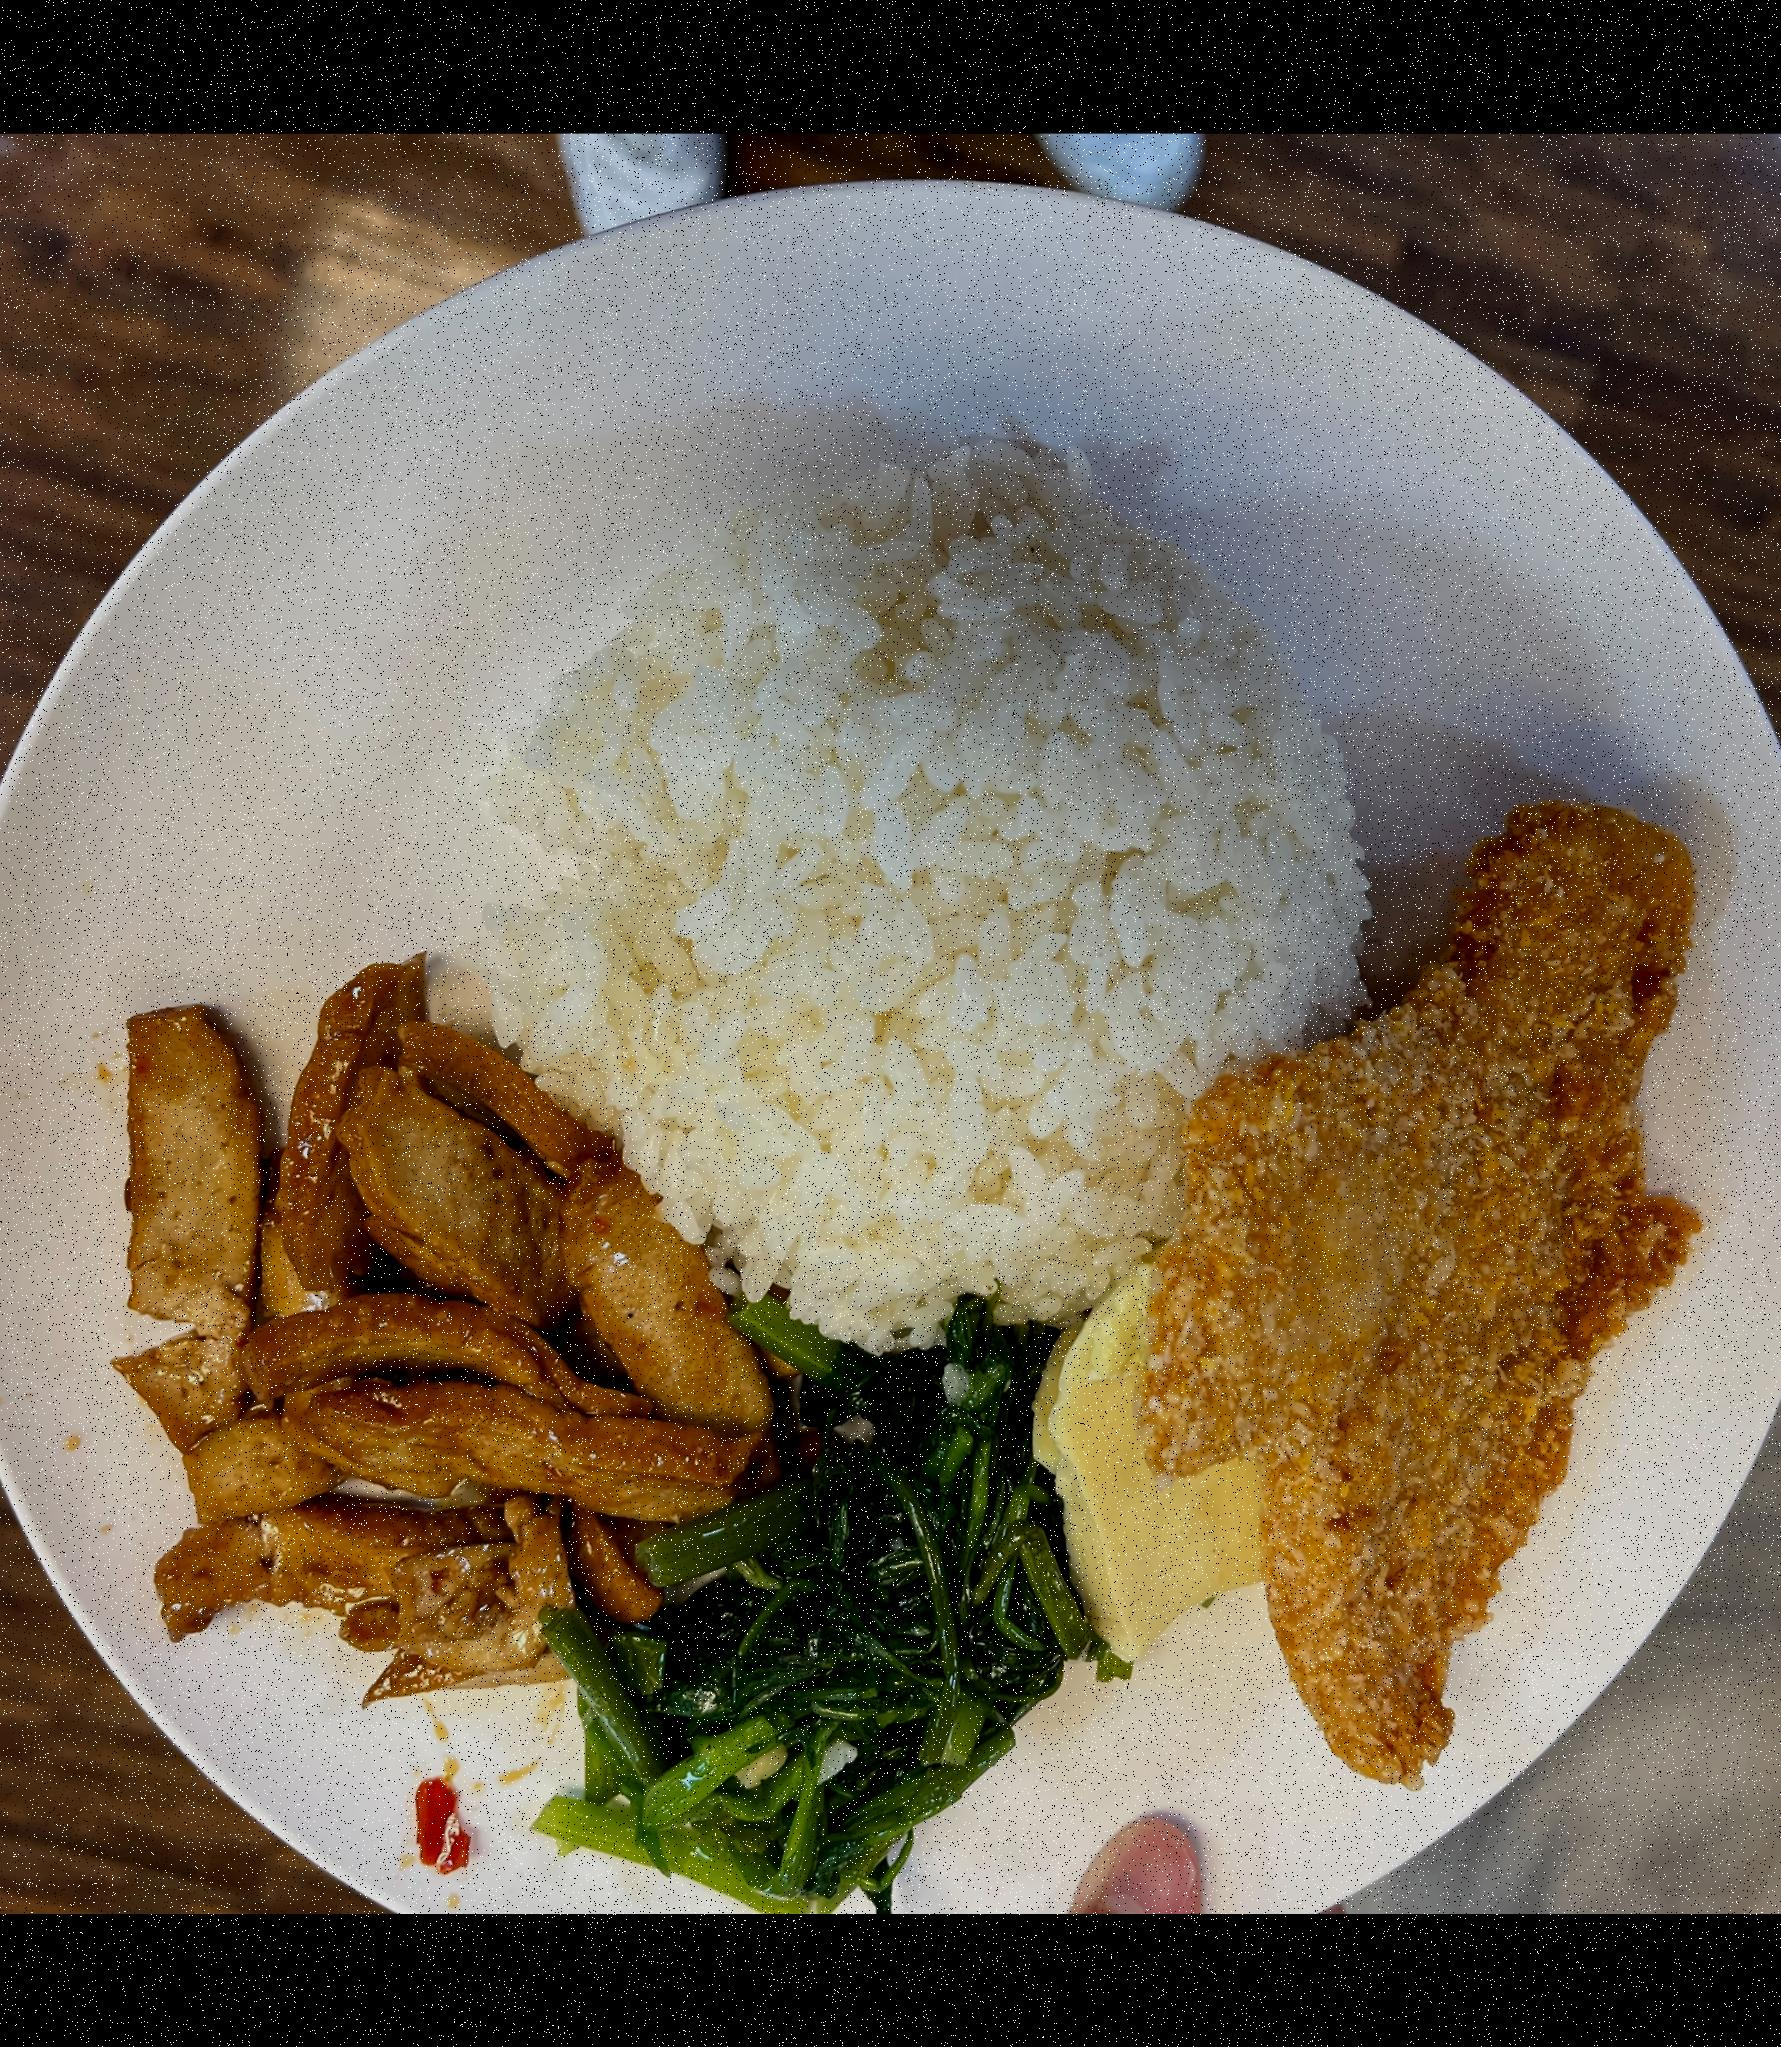big fried chicken leg: (0, 176, 1781, 1914)
big herbal chicken leg: (427, 459, 1382, 1347)
braised fish fillet: (81, 995, 747, 1705), (522, 1257, 1082, 1889), (1019, 1225, 1269, 1663)
braised pork: (1124, 783, 1694, 1814)
